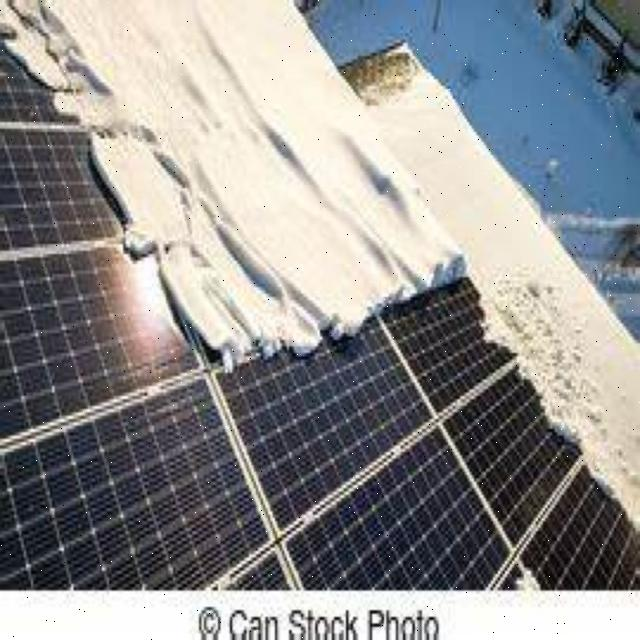snow covered: (2, 115, 220, 436)
